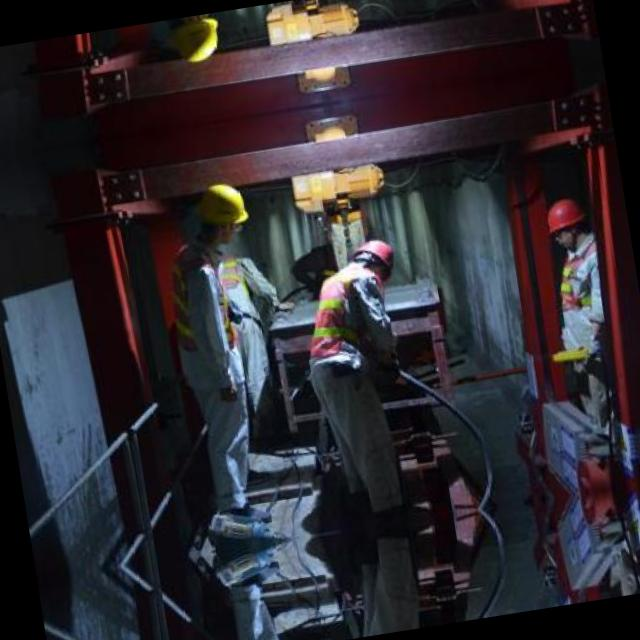helmet: (184, 176, 258, 248), (157, 11, 230, 70), (540, 194, 592, 254), (349, 237, 399, 280)
